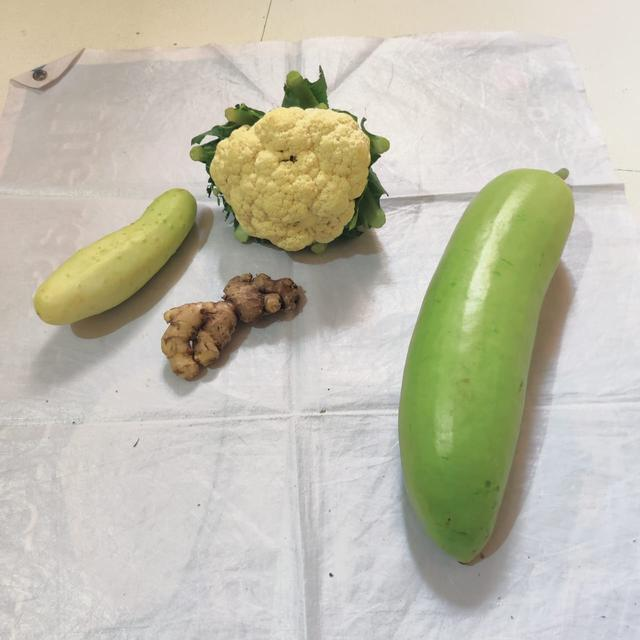Organik: (393, 142, 593, 574), (190, 80, 419, 256), (23, 189, 196, 334), (159, 260, 312, 396)
